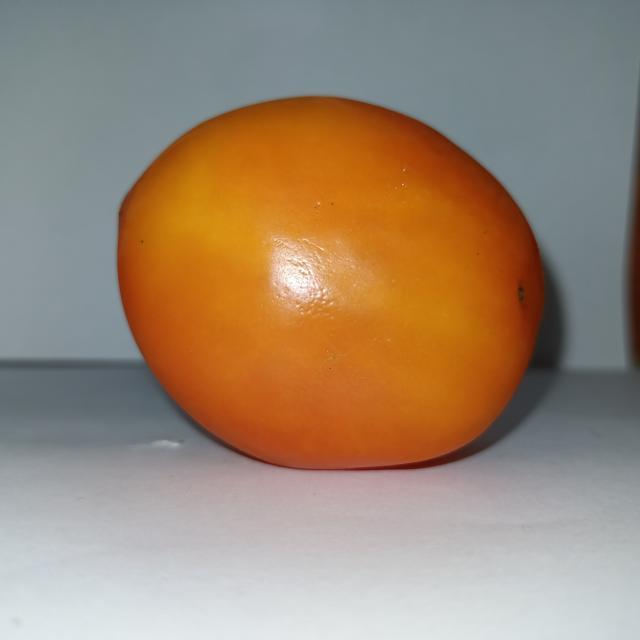Red: (115, 93, 546, 471)
